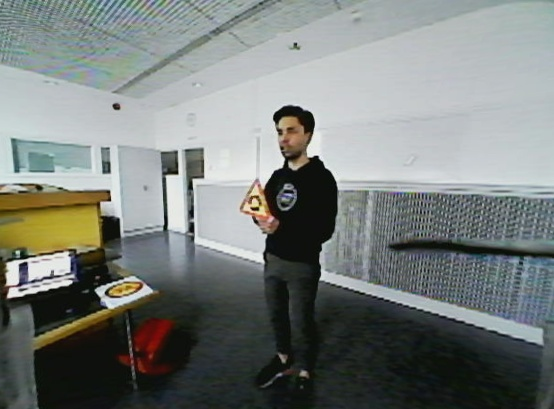roundabout_warning: (236, 176, 275, 223)
